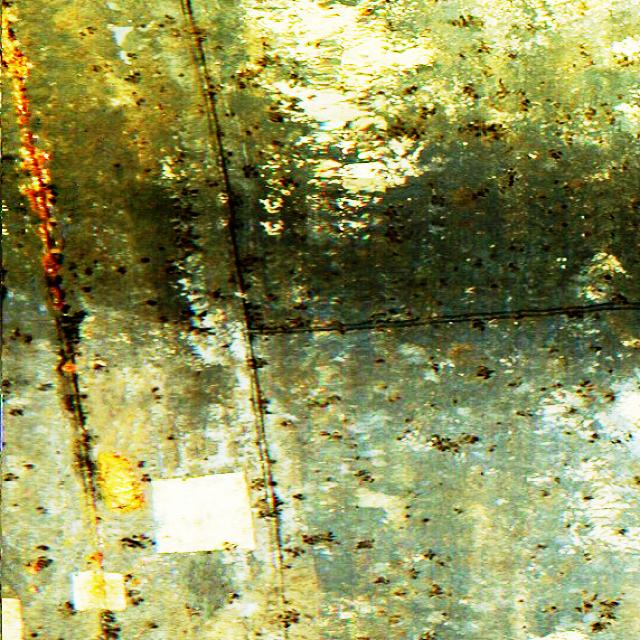Corrosion: (1, 4, 65, 313), (100, 452, 142, 510), (88, 552, 104, 595), (28, 558, 48, 575), (60, 362, 76, 373), (30, 585, 38, 592)
